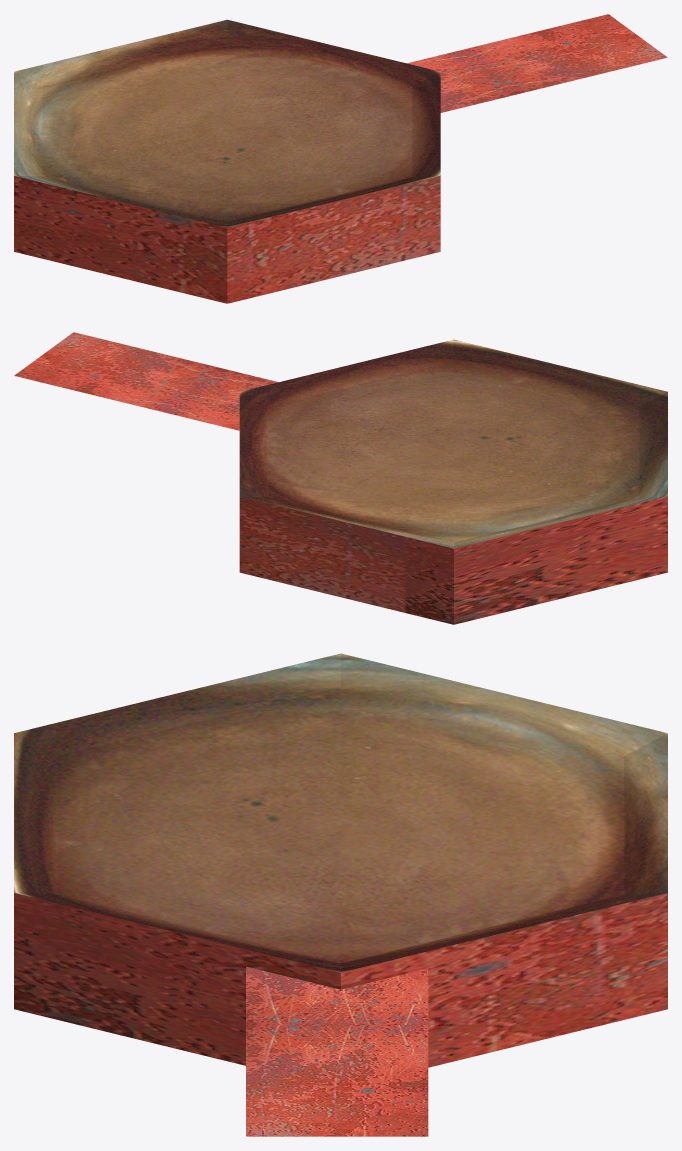
File: Prop_SM_CopperSkillet.fbx
3 views of the same model, one above another, from view 1: azimuth 30°, elevation 25°; view 2: azimuth 150°, elevation 25°; view 3: azimuth 270°, elevation 25° (orthographic). The views are drawn at different scales.
Visible parts, largest first — view 1: CopperSkillet; view 2: CopperSkillet; view 3: CopperSkillet.
Boxes of the visible parts, left/top/right/bottom form: CopperSkillet: left=14, top=14, right=667, bottom=303; CopperSkillet: left=14, top=332, right=667, bottom=624; CopperSkillet: left=14, top=653, right=667, bottom=1136.
Size of the model in its own units: 0.7775 by 0.0906 by 0.4611.
